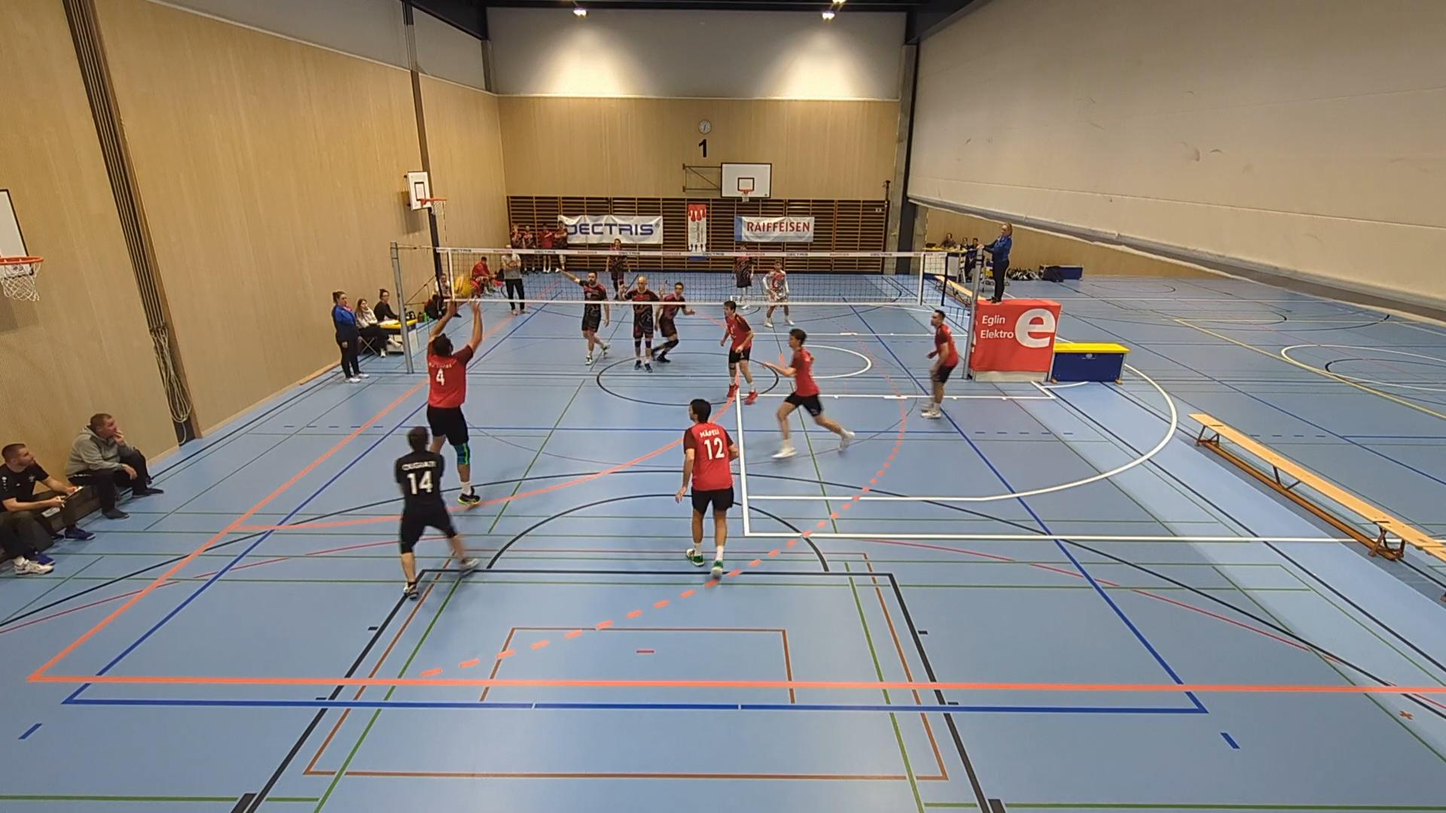Player: (395, 427, 477, 599), (761, 327, 853, 458), (676, 399, 739, 577), (560, 267, 610, 364), (922, 309, 958, 419), (719, 300, 757, 404), (621, 275, 660, 372), (656, 282, 694, 363), (764, 258, 794, 327), (606, 239, 627, 297), (734, 255, 753, 302)
Receive: (421, 314, 491, 504)
ball: (451, 276, 473, 298)
